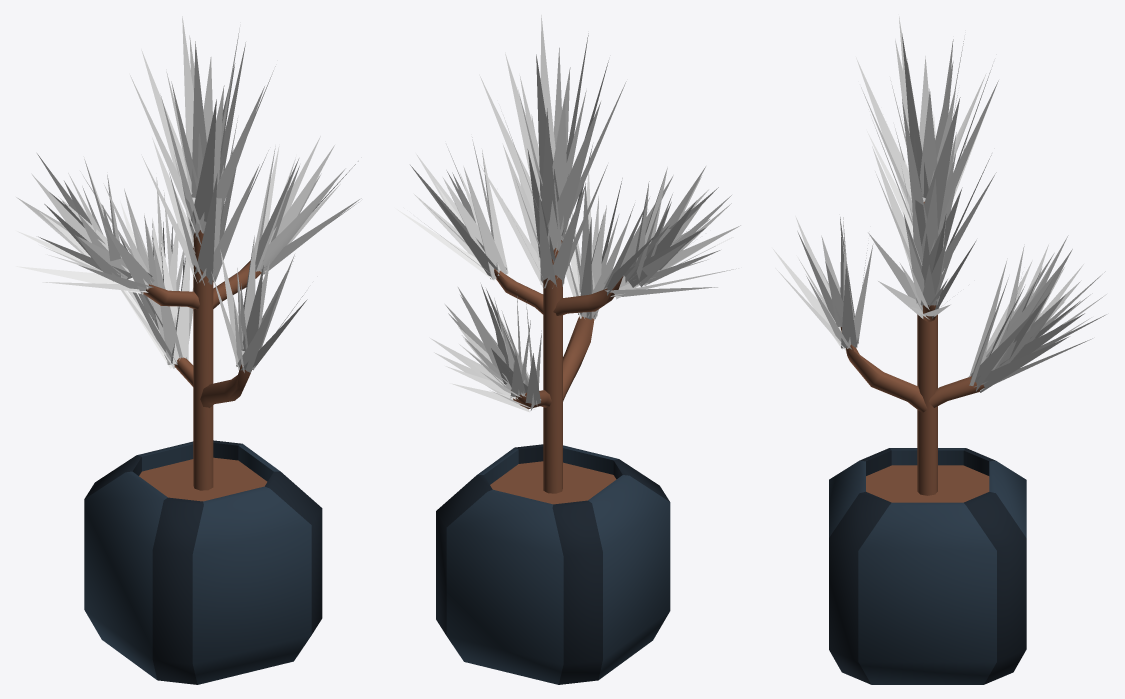
Rendered from Potted-Plant-1.fbx.
The picture shows the model from 3 angles, left to right: view 1: azimuth 30°, elevation 25°; view 2: azimuth 150°, elevation 25°; view 3: azimuth 270°, elevation 25°; orthographic projection. The views are drawn at different scales.
Parts seen in each view (by area): view 1: Potted-Plant-1; view 2: Potted-Plant-1; view 3: Potted-Plant-1.
Part boxes in pixels (x1,y1,x2,y2): Potted-Plant-1: (16,16,361,684); Potted-Plant-1: (395,15,740,684); Potted-Plant-1: (772,16,1106,684).
Bounding box in the file's own units: 1.96 × 3.58 × 1.72.
